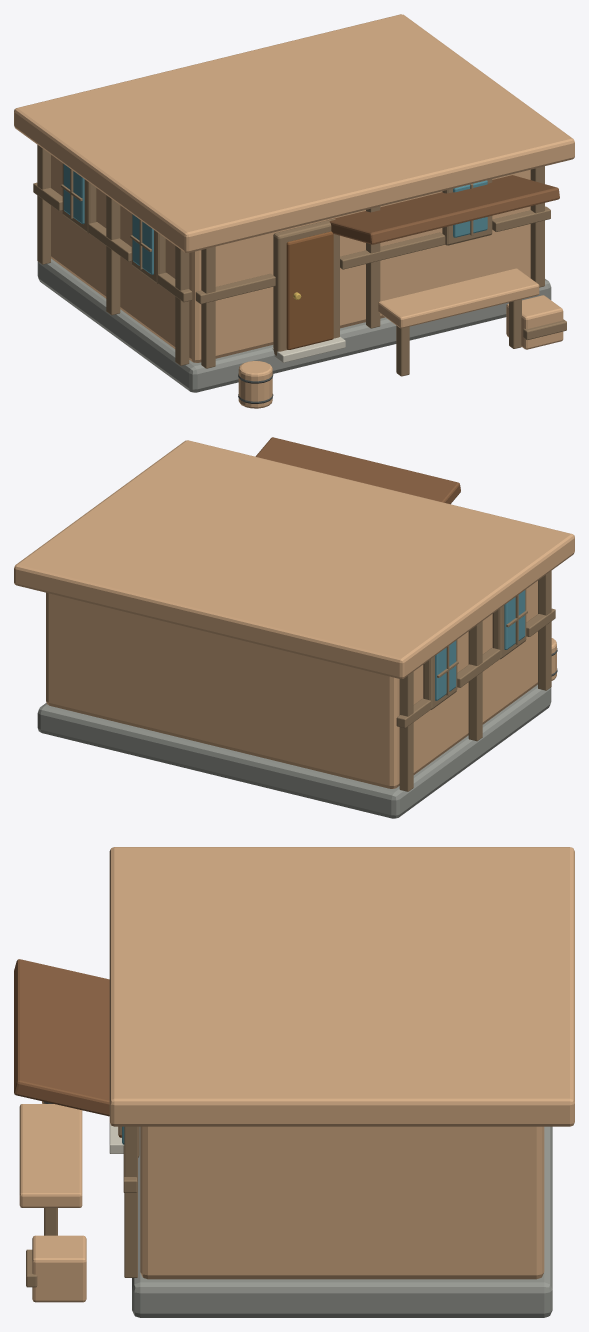
The model's file is arid-artisan-0.glb.
3 views of the same model, one above another, from view 1: azimuth 30°, elevation 25°; view 2: azimuth 150°, elevation 25°; view 3: azimuth 270°, elevation 25° (orthographic). The views are drawn at different scales.
Visible parts, largest first — view 1: Adobe cream, Adobe fieldstone, Palm beams, Foundation stone, Adobe wood, Wood shingles, Door oak, Blue glass, Cut limestone; view 2: Adobe cream, Adobe fieldstone, Foundation stone, Palm beams, Wood shingles, Blue glass; view 3: Adobe cream, Adobe fieldstone, Foundation stone, Wood shingles, Adobe wood, Palm beams.
Part boxes in pixels (x1,y1,x2,y2): Adobe cream: (14, 14, 574, 252); Adobe fieldstone: (51, 155, 530, 362); Palm beams: (33, 145, 566, 376); Foundation stone: (37, 258, 551, 392); Adobe wood: (238, 268, 563, 408); Wood shingles: (329, 175, 559, 244); Door oak: (286, 231, 333, 349); Blue glass: (63, 164, 487, 274); Cut limestone: (272, 337, 345, 362); Adobe cream: (14, 440, 574, 678); Adobe fieldstone: (46, 581, 537, 788); Foundation stone: (37, 684, 551, 818); Palm beams: (396, 571, 555, 791); Wood shingles: (255, 437, 460, 504); Blue glass: (435, 590, 525, 700); Adobe cream: (109, 847, 574, 1126); Adobe fieldstone: (140, 1126, 544, 1279); Foundation stone: (132, 1126, 552, 1317); Wood shingles: (14, 959, 109, 1116); Adobe wood: (19, 1101, 86, 1302); Palm beams: (26, 1126, 139, 1287).
Bounding box in the file's own units: 4.34 × 1.82 × 4.03.
